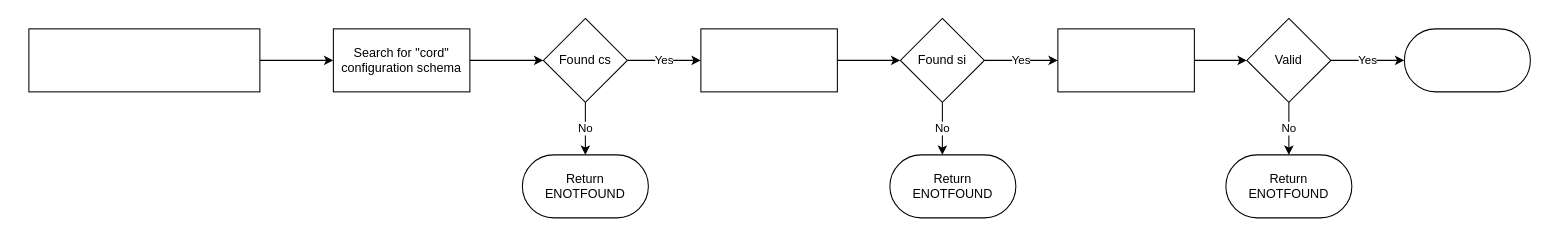
Image size: 1558x247. Some labels were removed from this diagram. Each missing label, with the centre of its shape:
cs->get("rd_ip_addr", si): pixel 1125 60
Get value of "rd_ip_addr": pixel 1466 60
registry_get_value("cord/0/rd_ip_addr"): pixel 144 60
Search for "0" schema instance: pixel 768 60
